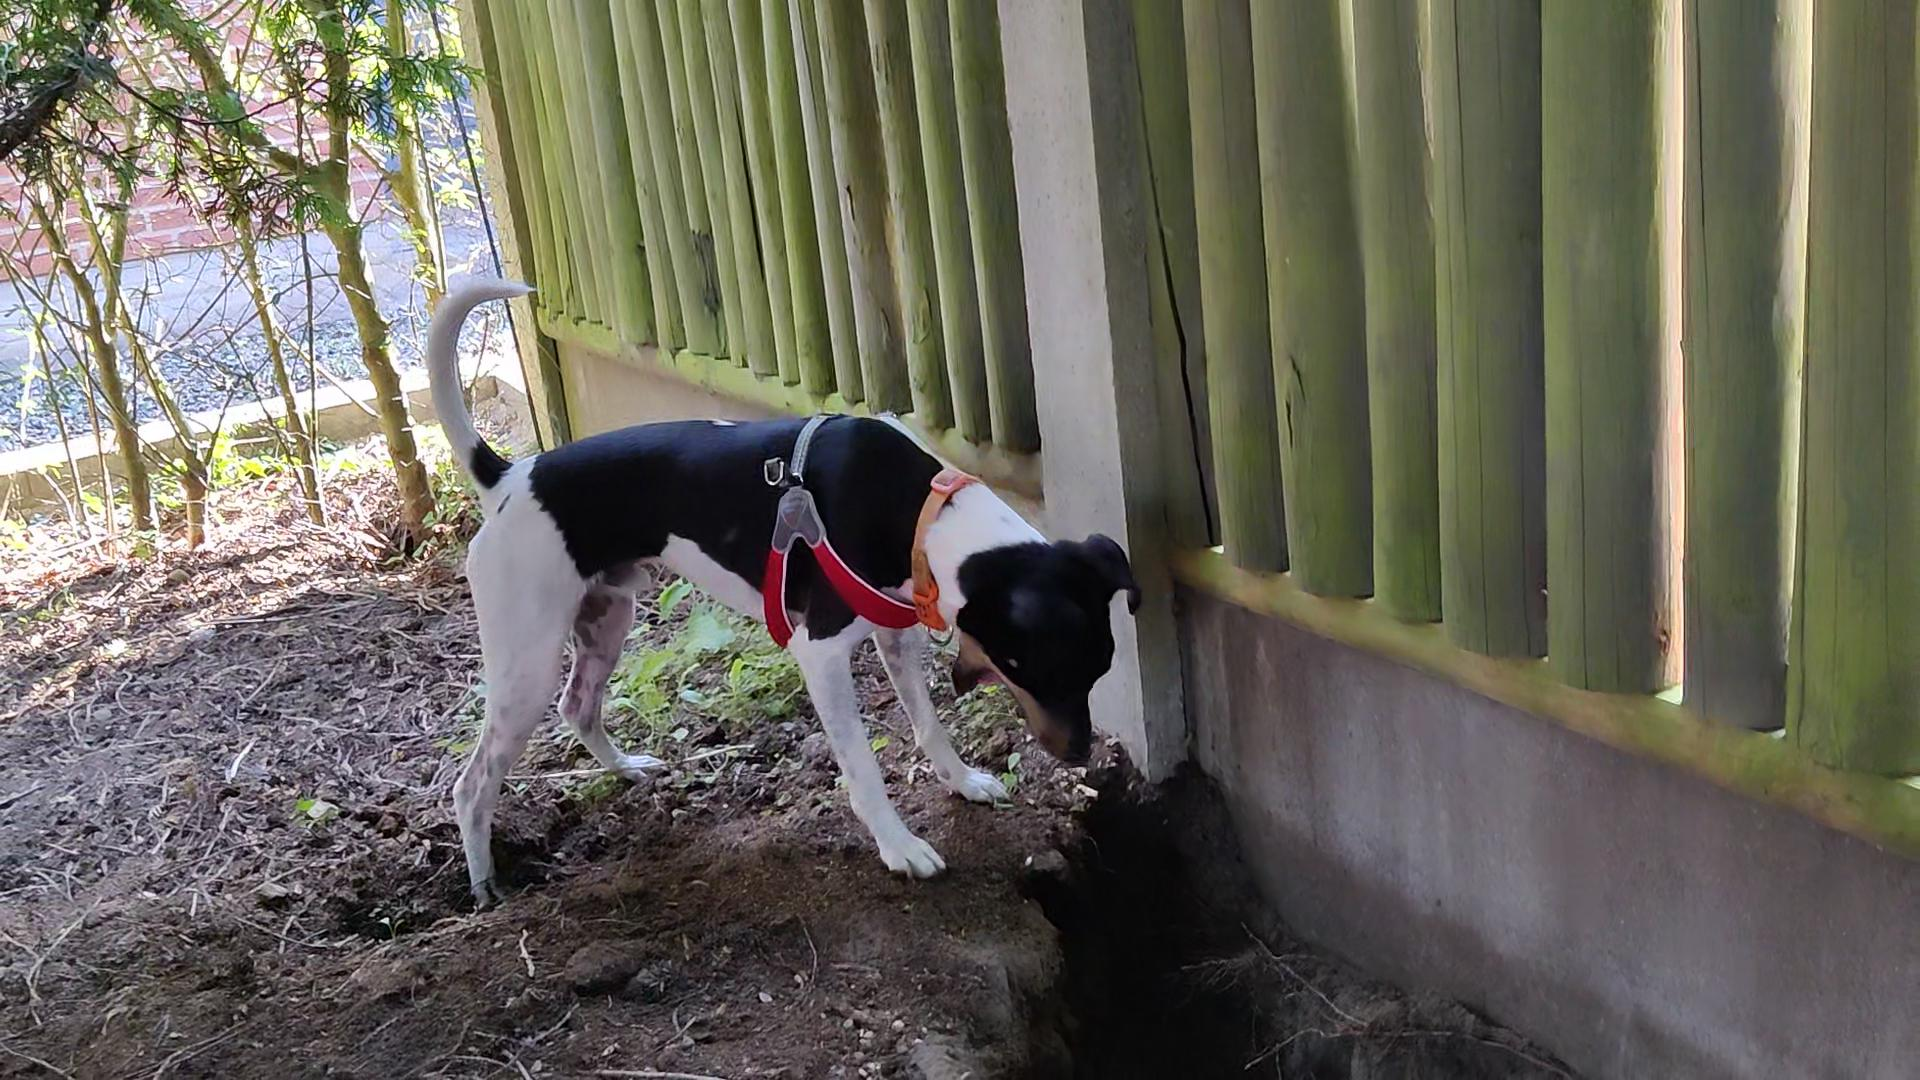Dog: (410, 243, 1145, 913)
